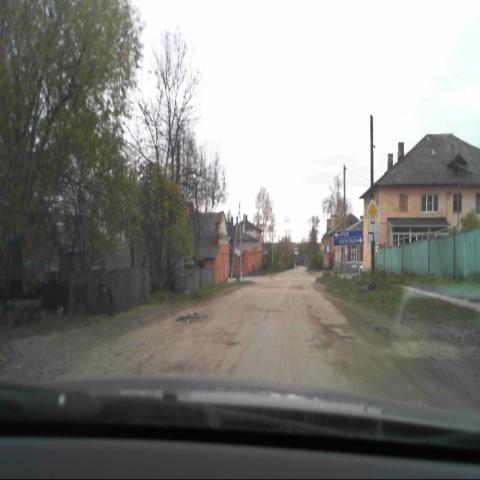2_1: (366, 198, 379, 223)
8_13: (367, 222, 379, 243)
